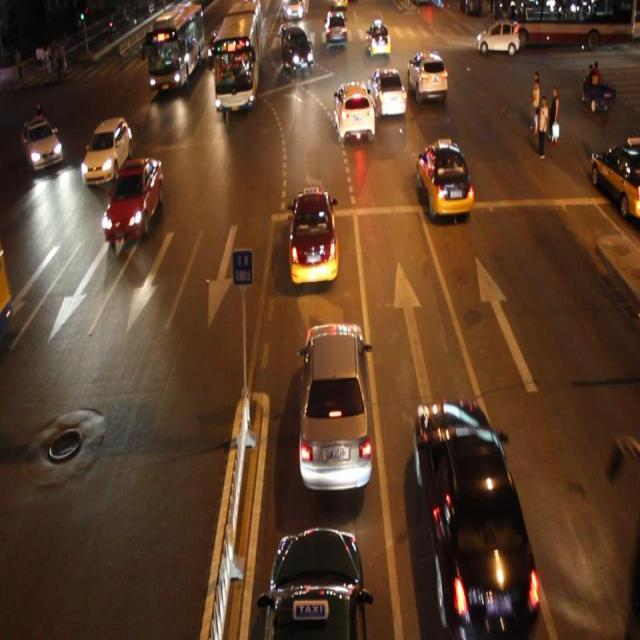car: (414, 395, 540, 622), (297, 319, 373, 495), (260, 526, 367, 640), (102, 158, 164, 239), (287, 188, 339, 284), (416, 141, 474, 218), (81, 119, 132, 184), (334, 82, 374, 142), (21, 117, 62, 172), (368, 66, 405, 118), (409, 51, 447, 101), (288, 24, 321, 70), (367, 22, 391, 56)
van: (146, 1, 204, 87), (213, 1, 259, 107)
